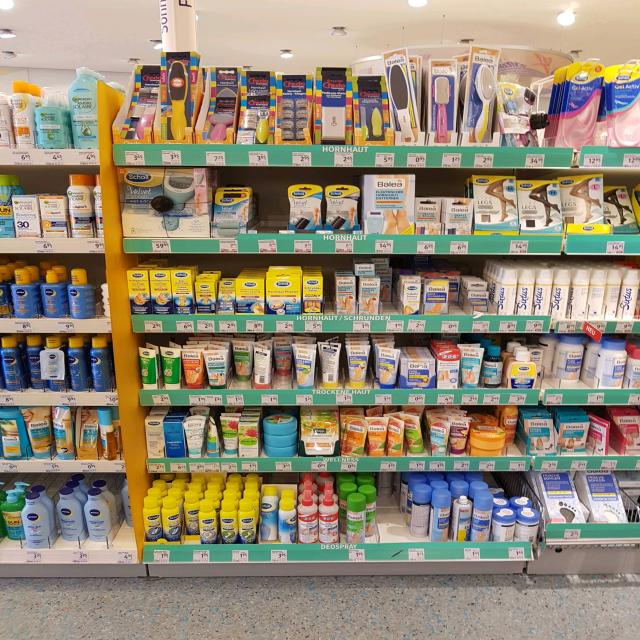void: (376, 472, 408, 542)
